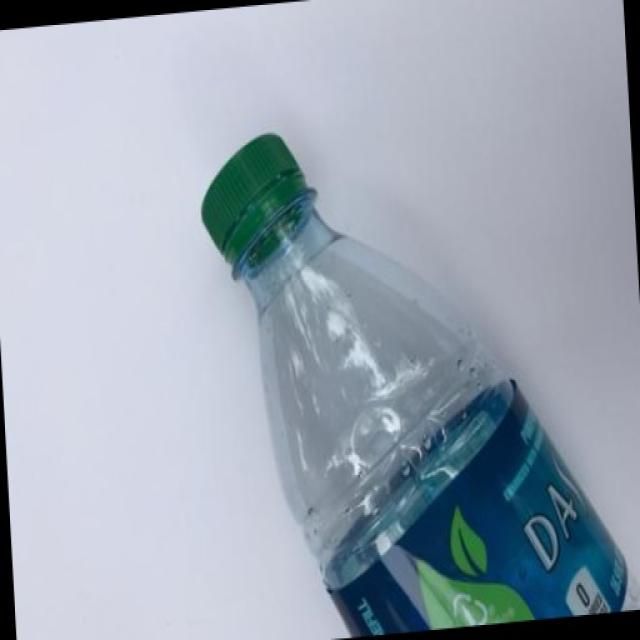plastico: (191, 99, 637, 637)
